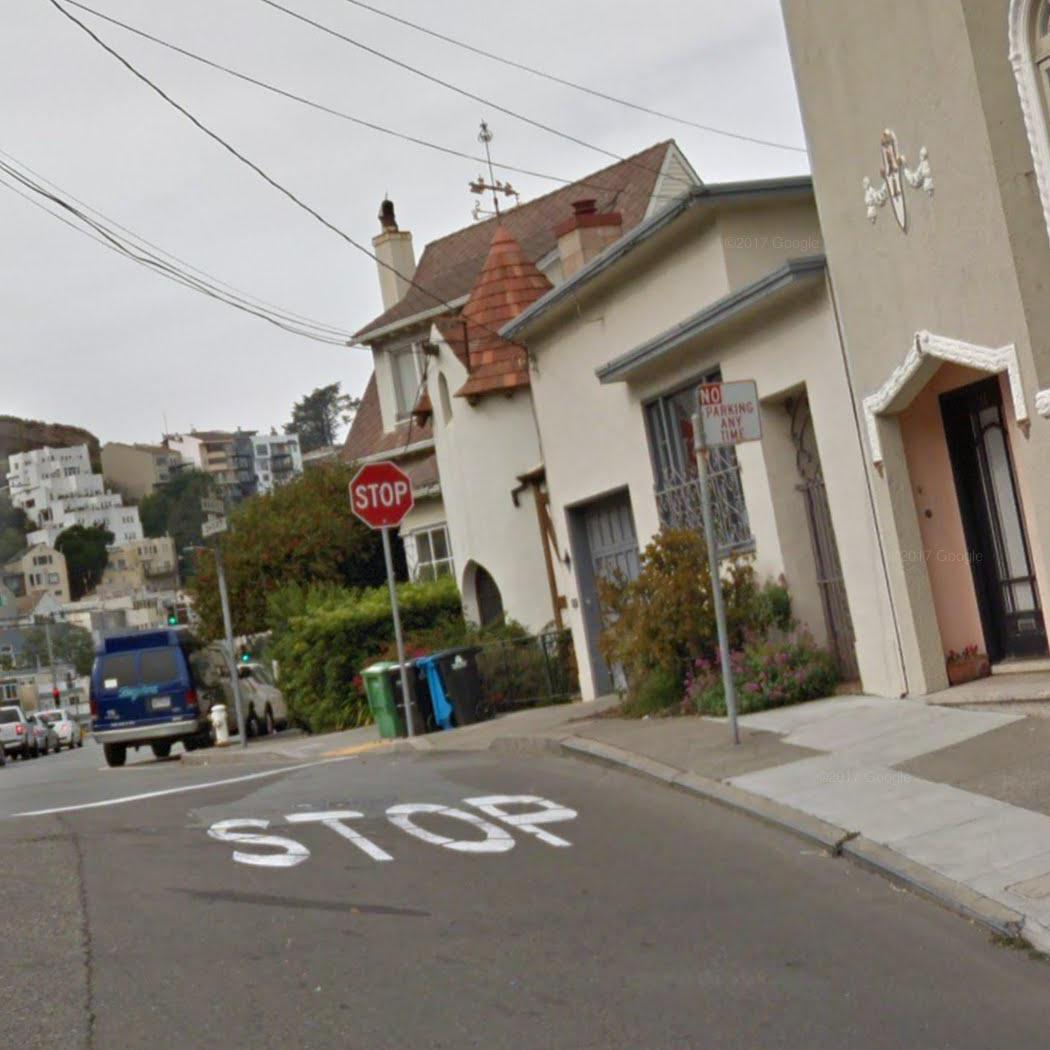No Parking Anytime: (692, 374, 767, 450)
